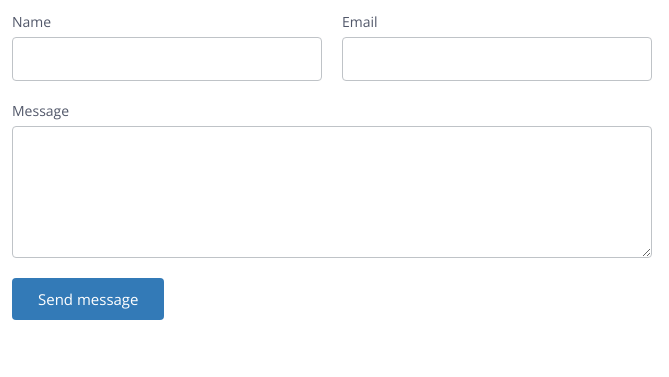
Test: ContactForm › shows an error message when the API reports failure
Step 1. Type "Jane Doe" into the field labelled "Name" → [167, 59], box [12, 37, 322, 81]
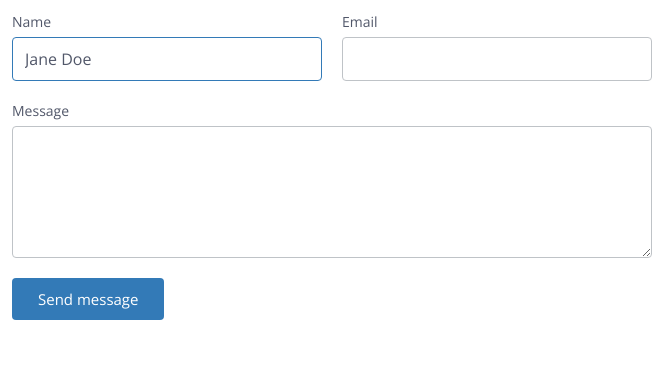
Step 2. Type "jane@example.com" into the field labelled "Email" → [497, 59], box [342, 37, 652, 81]
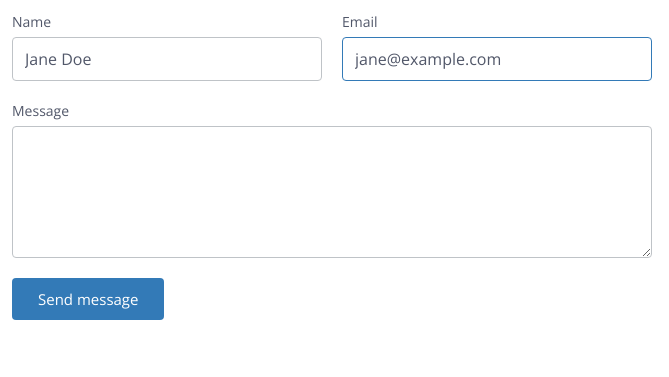
Step 3. Type "Hello there" into the text box labelled "Message" → [332, 192], box [12, 126, 652, 258]
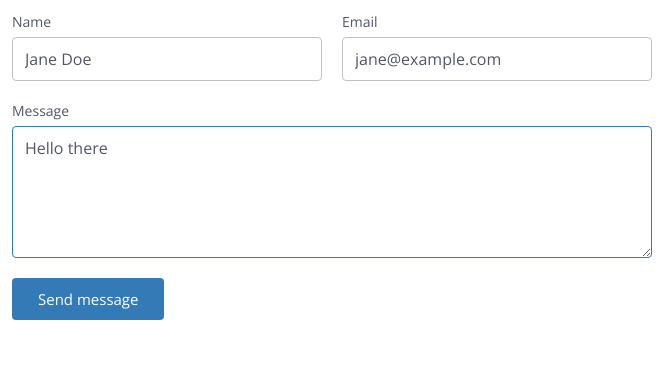
Step 4. Click the button "Send message" → [88, 299], box [12, 278, 164, 320]
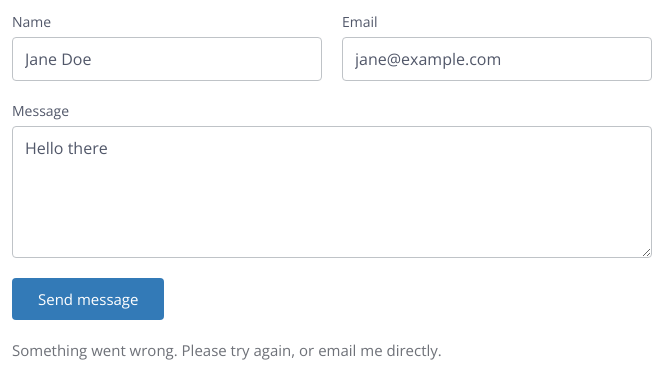
Expected: the text "Something went wrong. Please try again, or email me directly." is shown, [12, 340, 442, 360]
